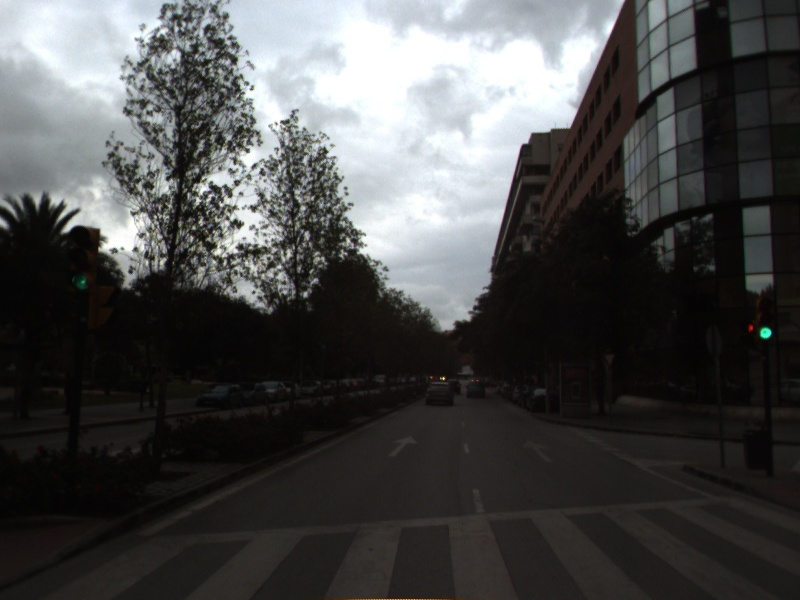STRAIGHT: (520, 438, 555, 465), (386, 434, 420, 459)
